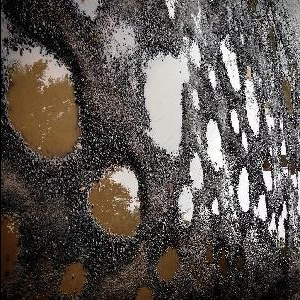pothole: (2, 32, 87, 164), (139, 44, 189, 162), (87, 160, 147, 239), (0, 191, 37, 291), (56, 252, 98, 300), (242, 64, 263, 139), (153, 241, 184, 284), (221, 35, 243, 94), (270, 197, 292, 252), (207, 116, 227, 174), (174, 182, 195, 229), (70, 0, 103, 26), (237, 164, 254, 211), (188, 149, 205, 191), (261, 155, 274, 196), (257, 192, 269, 223), (229, 108, 241, 134), (136, 284, 155, 300), (210, 196, 222, 216)
